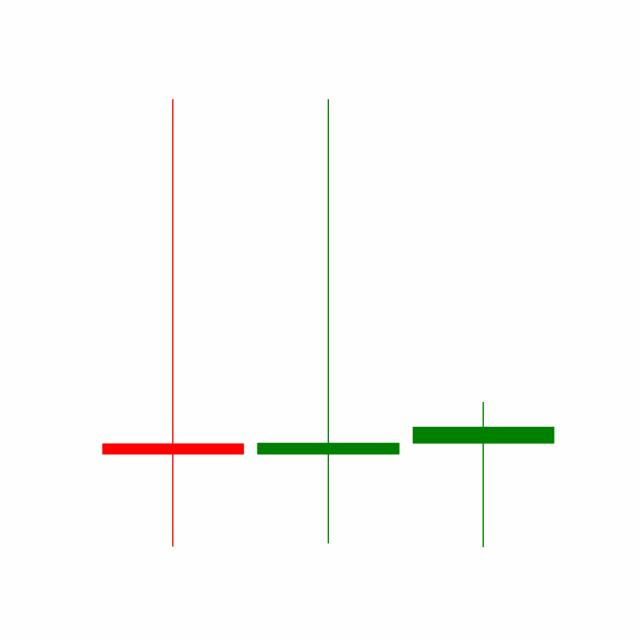Hammer: (405, 399, 561, 548)
